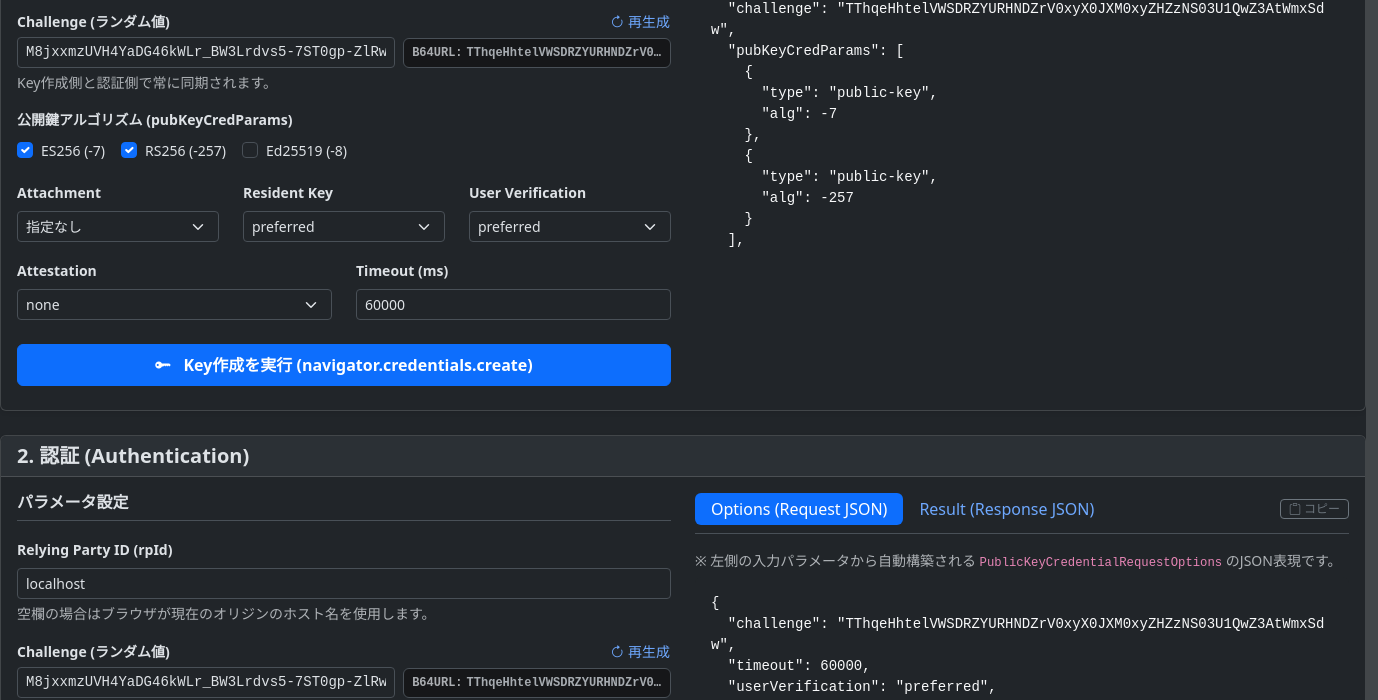
Test case: DevelopFido.vue › handles successful credential creation (Registration)
(page scrolled)
Click the button with id "btnCreateCredential": click(344, 365) x1=17 y1=344 x2=671 y2=386
(page scrolled)
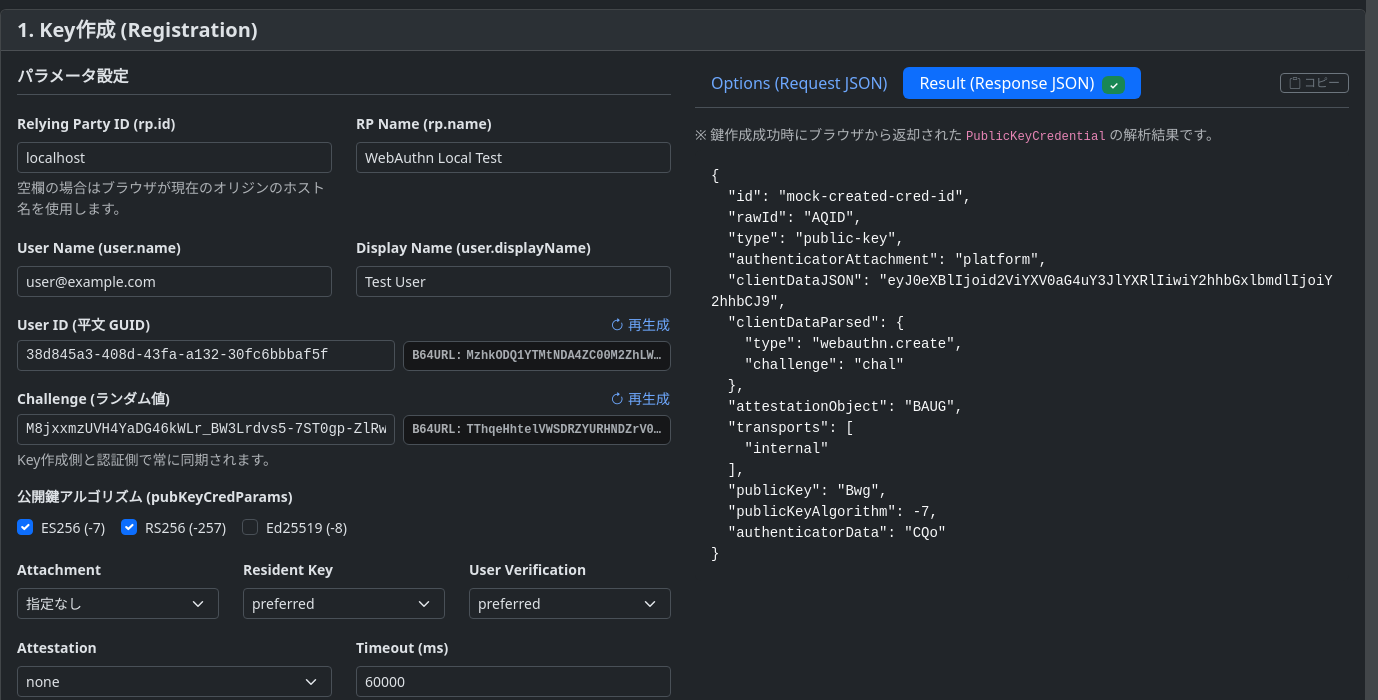
Check: the text with id "regResultJson" is shown, box x1=695 y1=150 x2=1349 y2=581
Check: the text with id "regResultJson" shows "mock-created-cred-id", box x1=711 y1=168 x2=1333 y2=562
